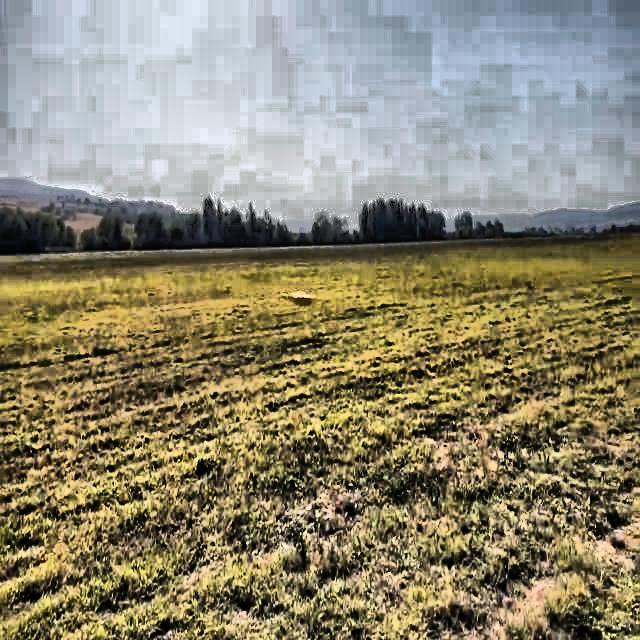iha: (281, 284, 319, 311)
